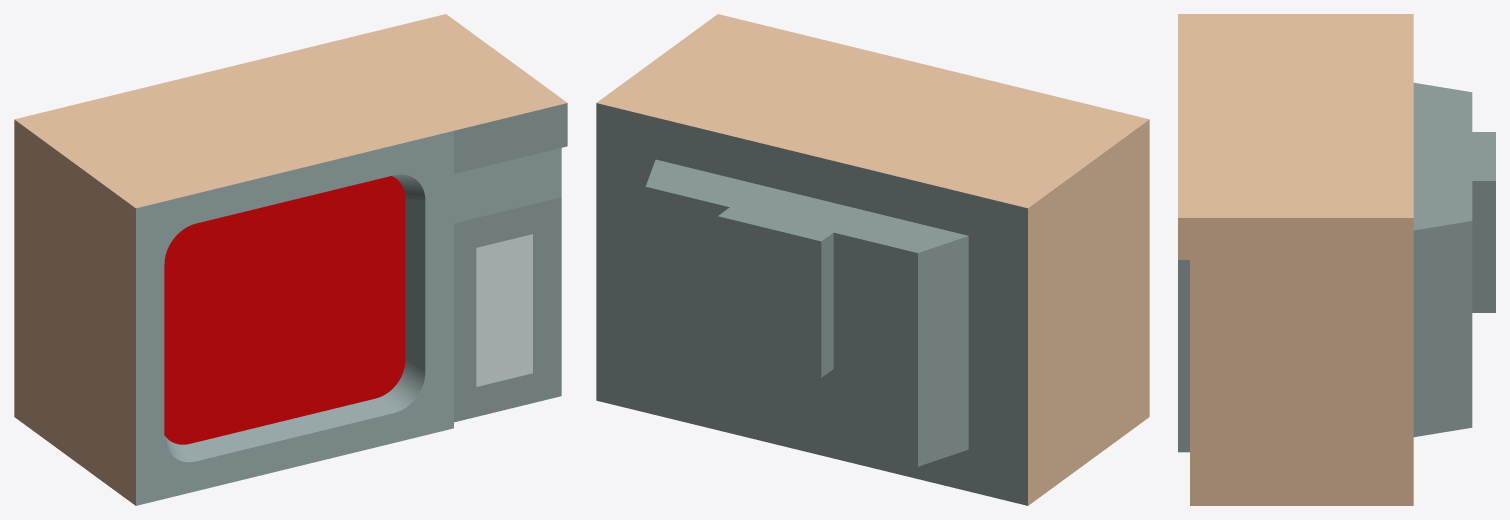
File: televisionVintage.glb
3 renders of one model, left to right at view 1: azimuth 30°, elevation 25°; view 2: azimuth 150°, elevation 25°; view 3: azimuth 270°, elevation 25°, orthographic. The views are drawn at different scales.
Parts seen in each view (by area): view 1: televisionVintage(Clone); view 2: televisionVintage(Clone); view 3: televisionVintage(Clone).
Part boxes in pixels (<box>): televisionVintage(Clone): <box>14,14,567,505</box>; televisionVintage(Clone): <box>596,14,1149,505</box>; televisionVintage(Clone): <box>1178,14,1495,505</box>.
Bounding box in the file's own units: 0.41 × 0.27 × 0.27.
